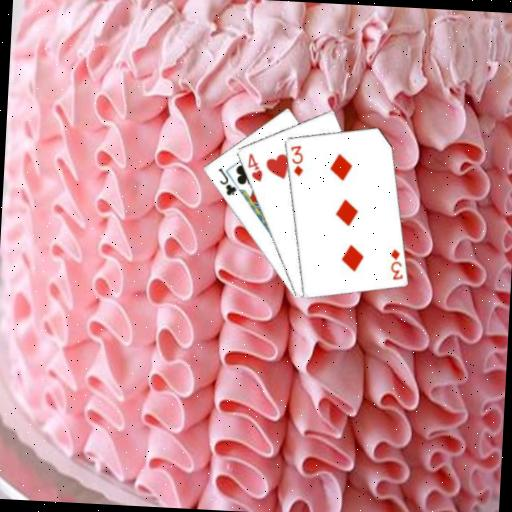3D: (286, 142, 306, 178), (386, 246, 406, 282)
4H: (243, 151, 265, 184)
JC: (214, 165, 239, 198)
